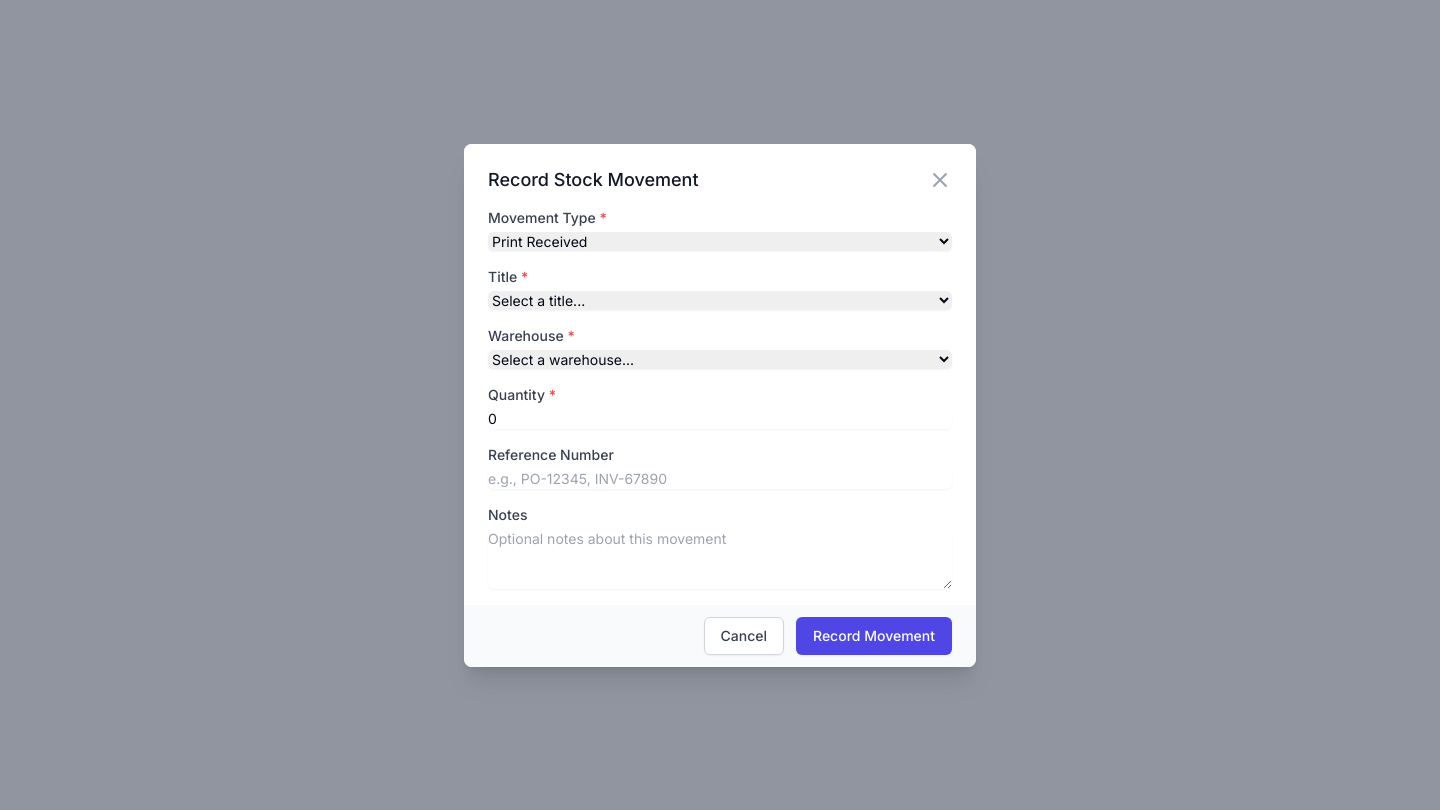
Test case: StockMovementModal Component › Stock Adjustment Special Handling › should show helper text for stock adjustments
The image size is (1440, 810).
Select "Stock Adjustment" in the dropdown labelled "Movement Type *": (720, 241) [488, 232, 952, 250]
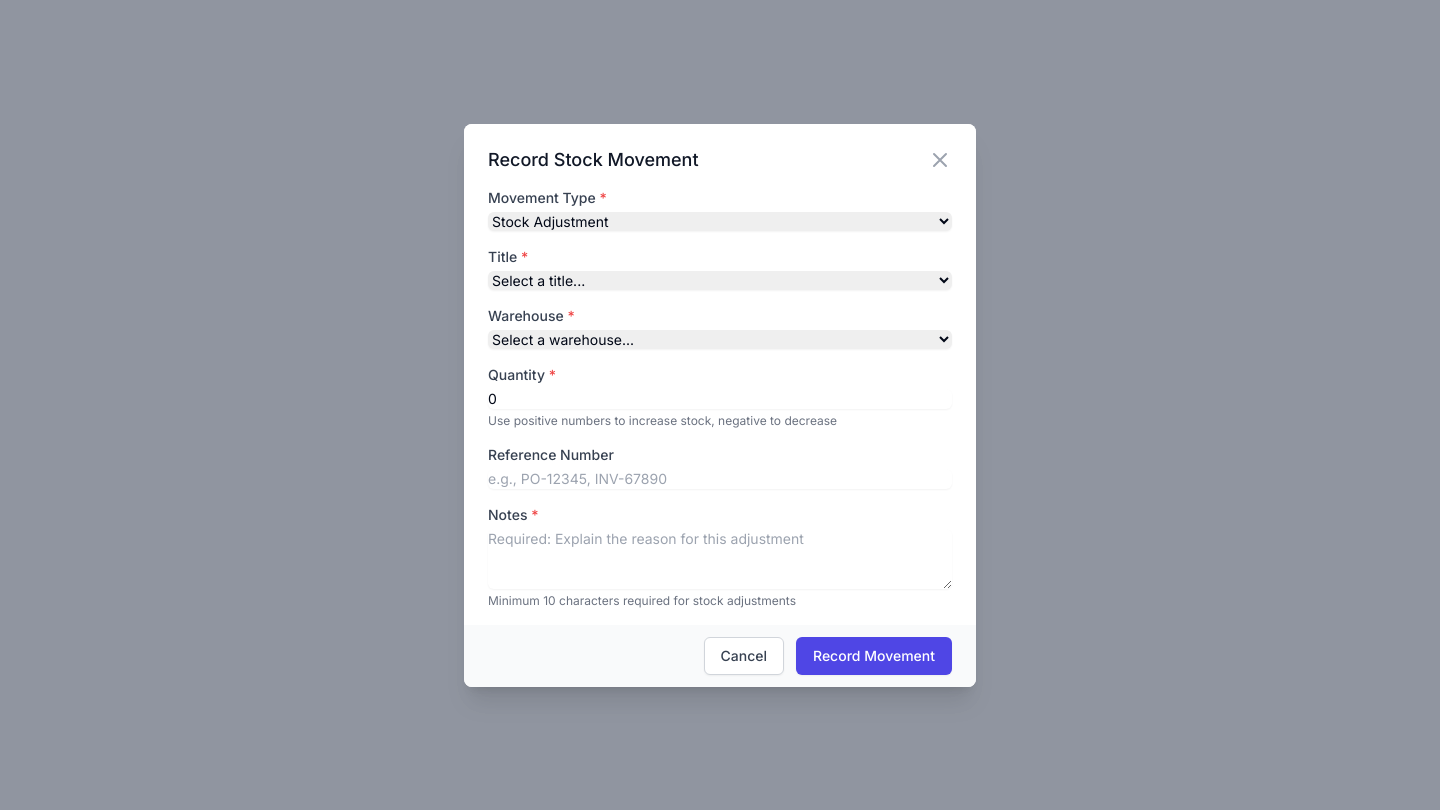
Expected: the text "Use positive numbers to increase stock, negative to decrease" is shown, [488, 412, 837, 428]
Expected: the text "Minimum 10 characters required for stock adjustments" is shown, [488, 592, 796, 608]
